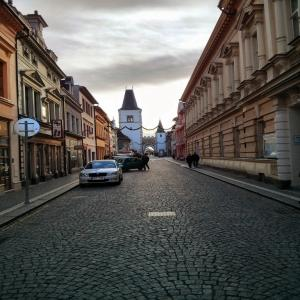Vehicle-registration-plate: (92, 177, 106, 181)
